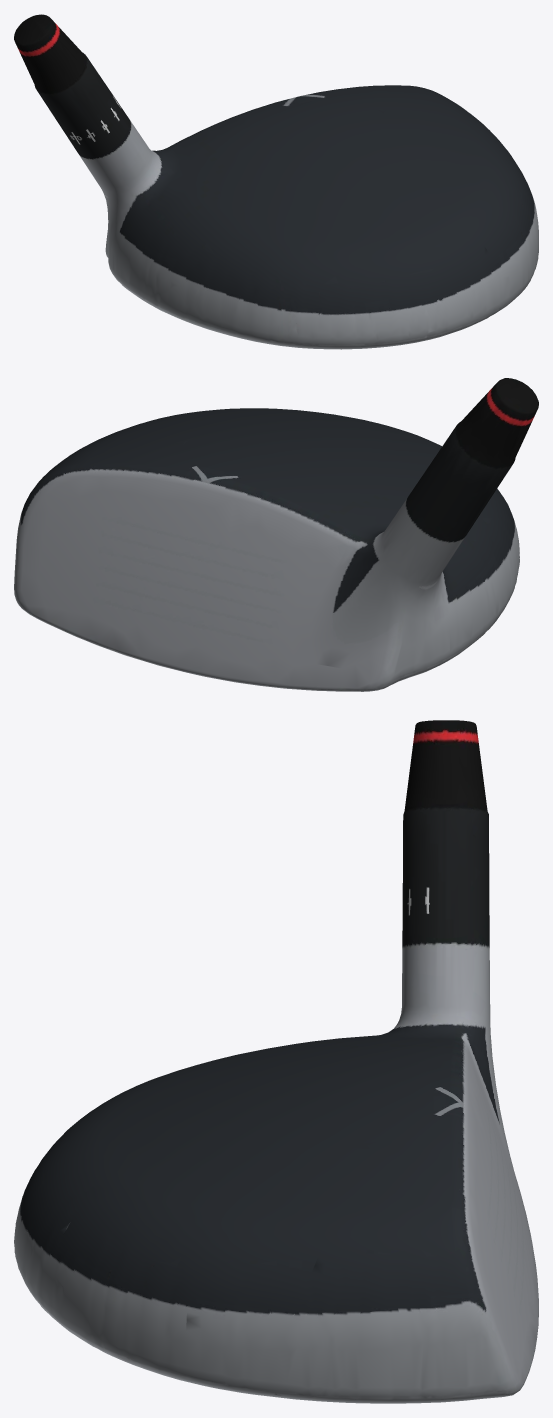
3 renders of one model, top to bottom at view 1: azimuth 30°, elevation 25°; view 2: azimuth 150°, elevation 25°; view 3: azimuth 270°, elevation 25°, orthographic. The views are drawn at different scales.
Parts seen in each view (by area): view 1: head; view 2: head; view 3: head.
Boxes of the visible parts, left/top/right/bottom form: head: left=14, top=14, right=538, bottom=349; head: left=14, top=378, right=538, bottom=691; head: left=14, top=720, right=538, bottom=1403.
Size of the model in its own units: 0.1184 by 0.0736 by 0.0834.
1 material, 1 textured.
